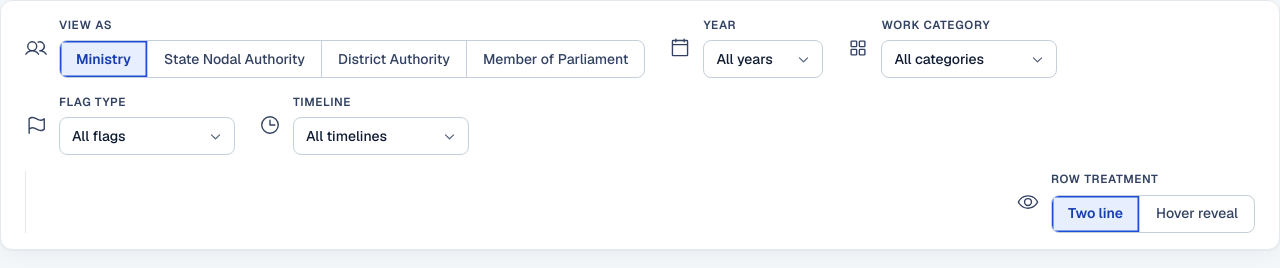
Test: FilterPanel: the 'View as' role lens (T6) › shows a single-choice District Authority picker under that lens
Click the radio button labelled "District Authority" at (394, 59), box x1=321 y1=41 x2=466 y2=77
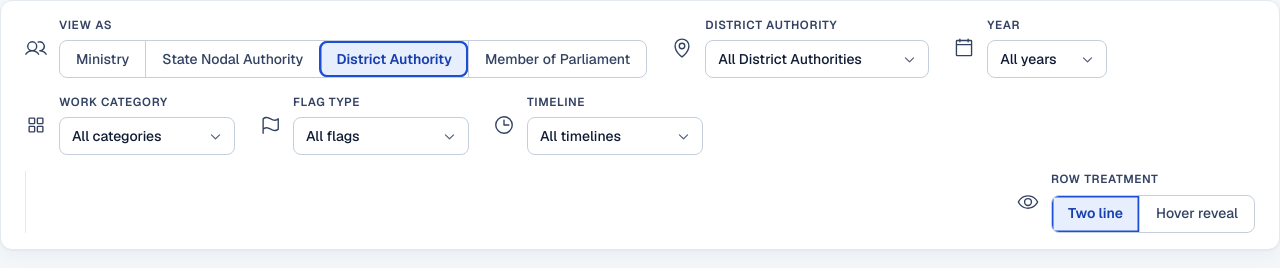
Result: the button "All District Authorities" is shown at x1=705 y1=40 x2=929 y2=78
